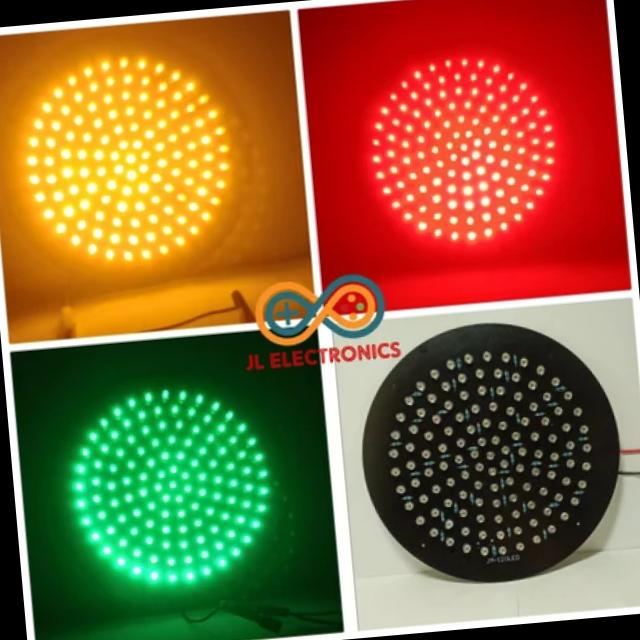green-lights: (61, 378, 281, 598)
red-lights: (356, 43, 570, 255)
yellow-lights: (11, 45, 242, 276)
